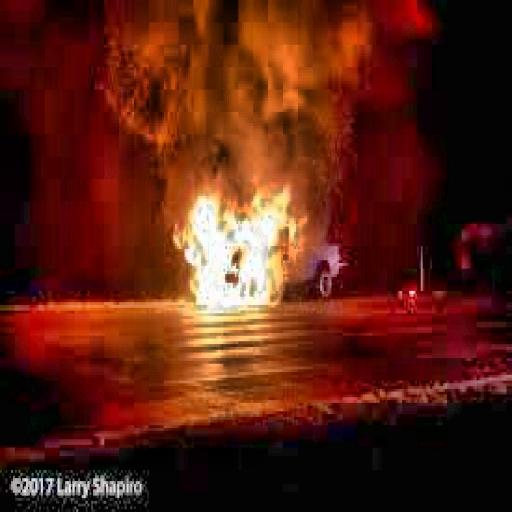fire: (168, 151, 322, 308)
